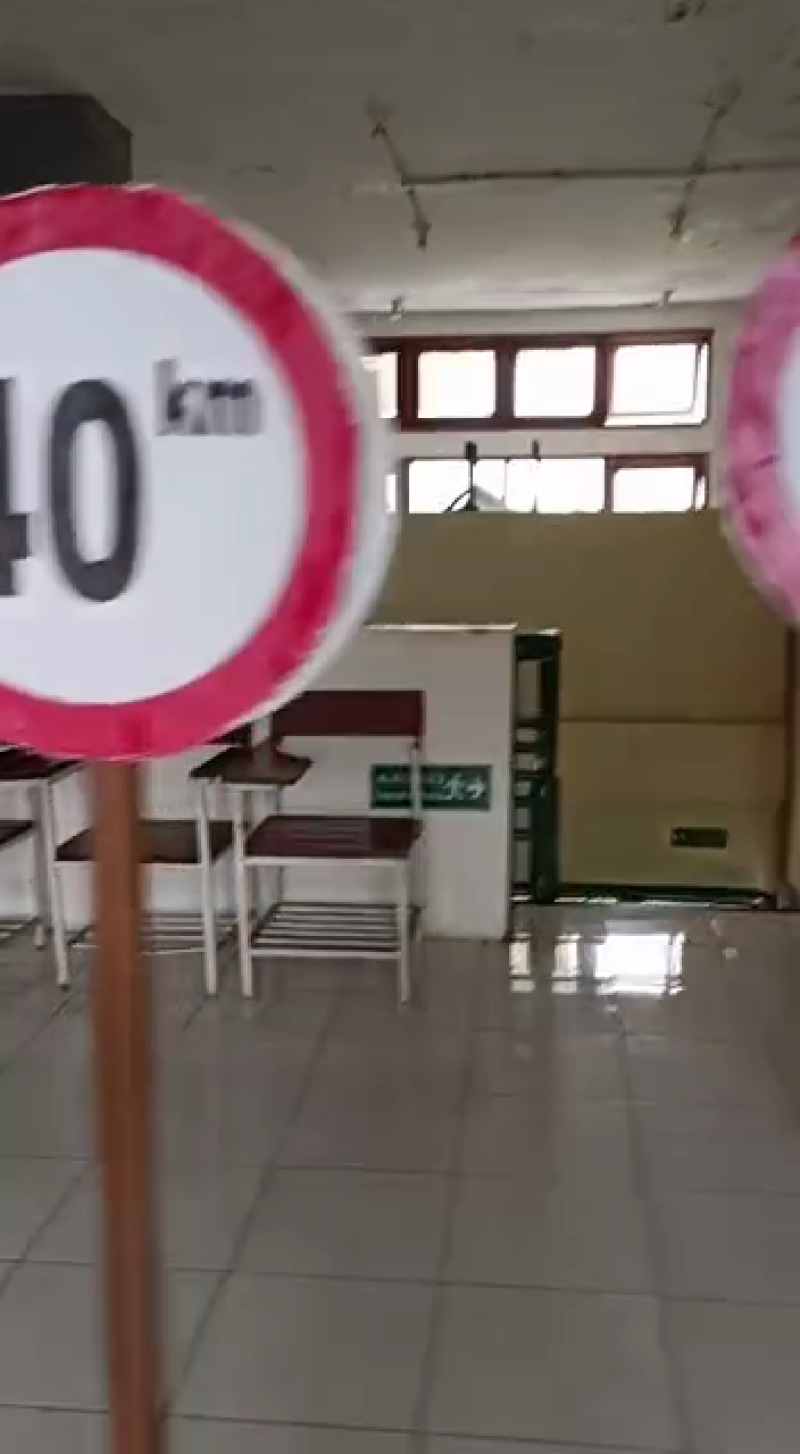batas maksimal 40kmperjam: (1, 171, 373, 770)
